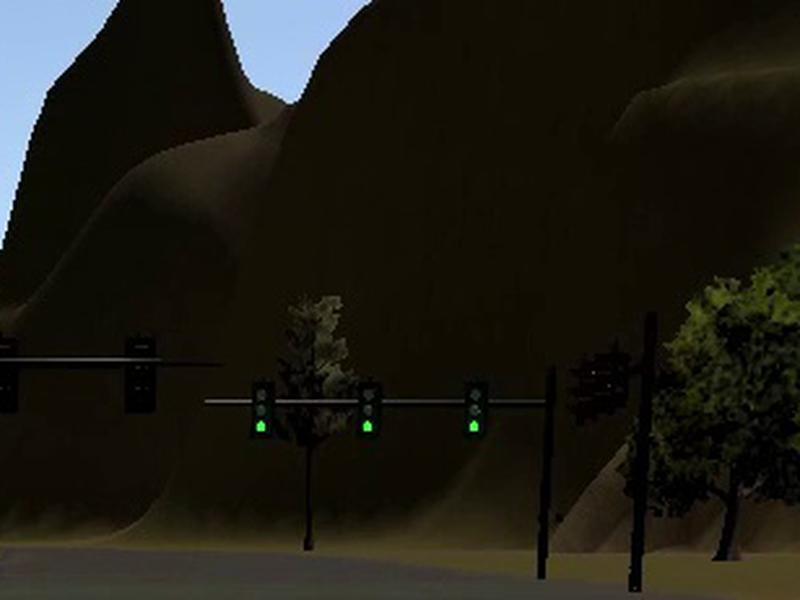Green: (252, 381, 274, 438), (465, 385, 488, 436), (358, 382, 380, 435)
